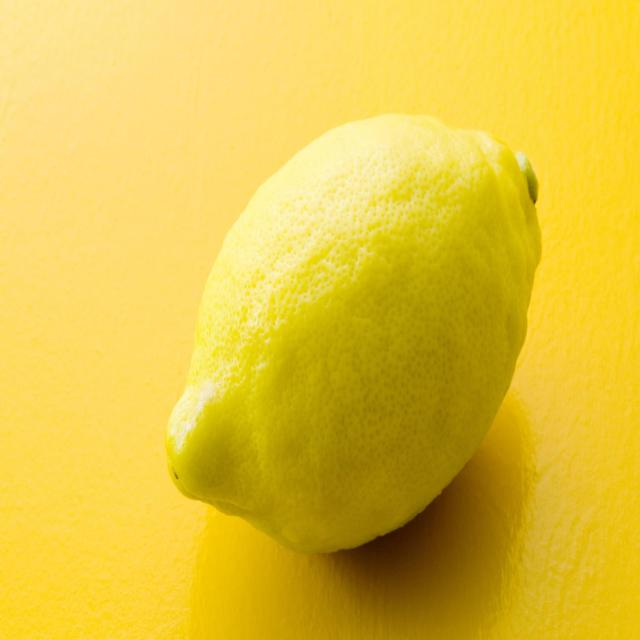lemon: (160, 98, 548, 564)
